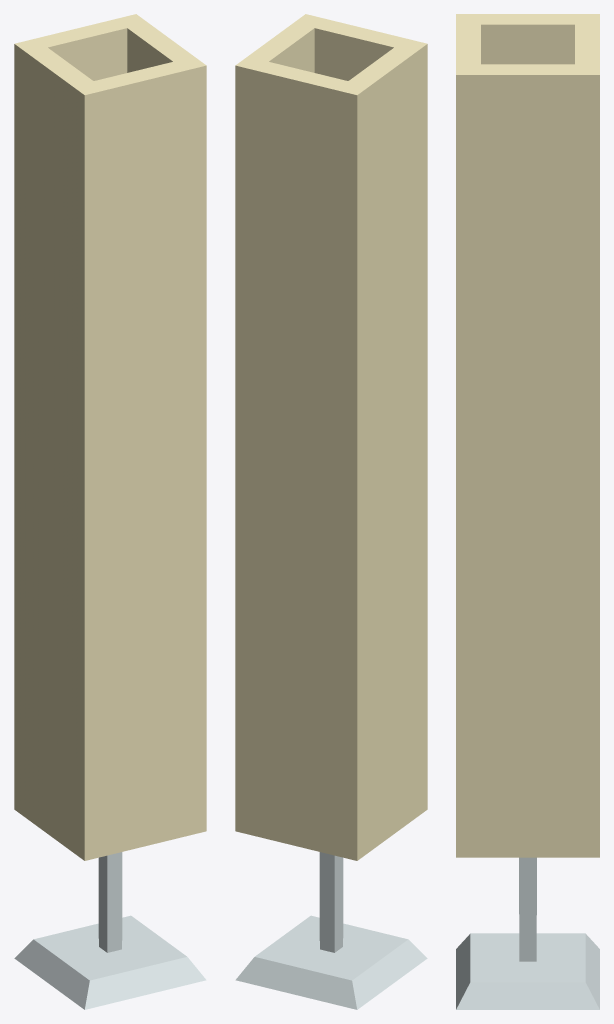
File: lampSquareFloor.glb
The picture shows the model from 3 angles, left to right: view 1: azimuth 30°, elevation 25°; view 2: azimuth 150°, elevation 25°; view 3: azimuth 270°, elevation 25°; orthographic projection. The views are drawn at different scales.
Visible parts, largest first — view 1: lampSquareFloor(Clone); view 2: lampSquareFloor(Clone); view 3: lampSquareFloor(Clone).
Part boxes in pixels (<box>): lampSquareFloor(Clone): <box>14,14,206,1009</box>; lampSquareFloor(Clone): <box>235,14,427,1009</box>; lampSquareFloor(Clone): <box>456,14,599,1009</box>.
Size of the model in its own units: 0.12 by 0.86 by 0.12.
